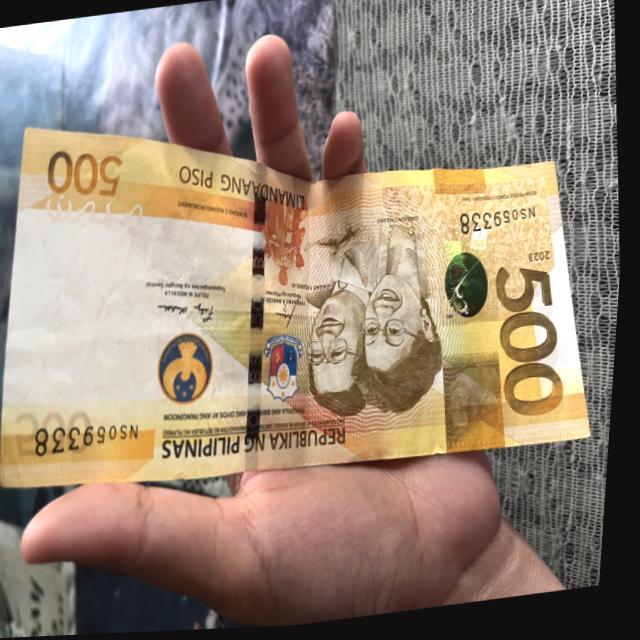concealed_value: (442, 352, 519, 456)
optically_variable_device: (439, 242, 507, 334)
security_thread: (219, 187, 310, 478)
see_through_mark: (37, 181, 162, 236)
serial_number: (28, 414, 162, 473), (455, 196, 551, 244)
value: (486, 264, 583, 433)
